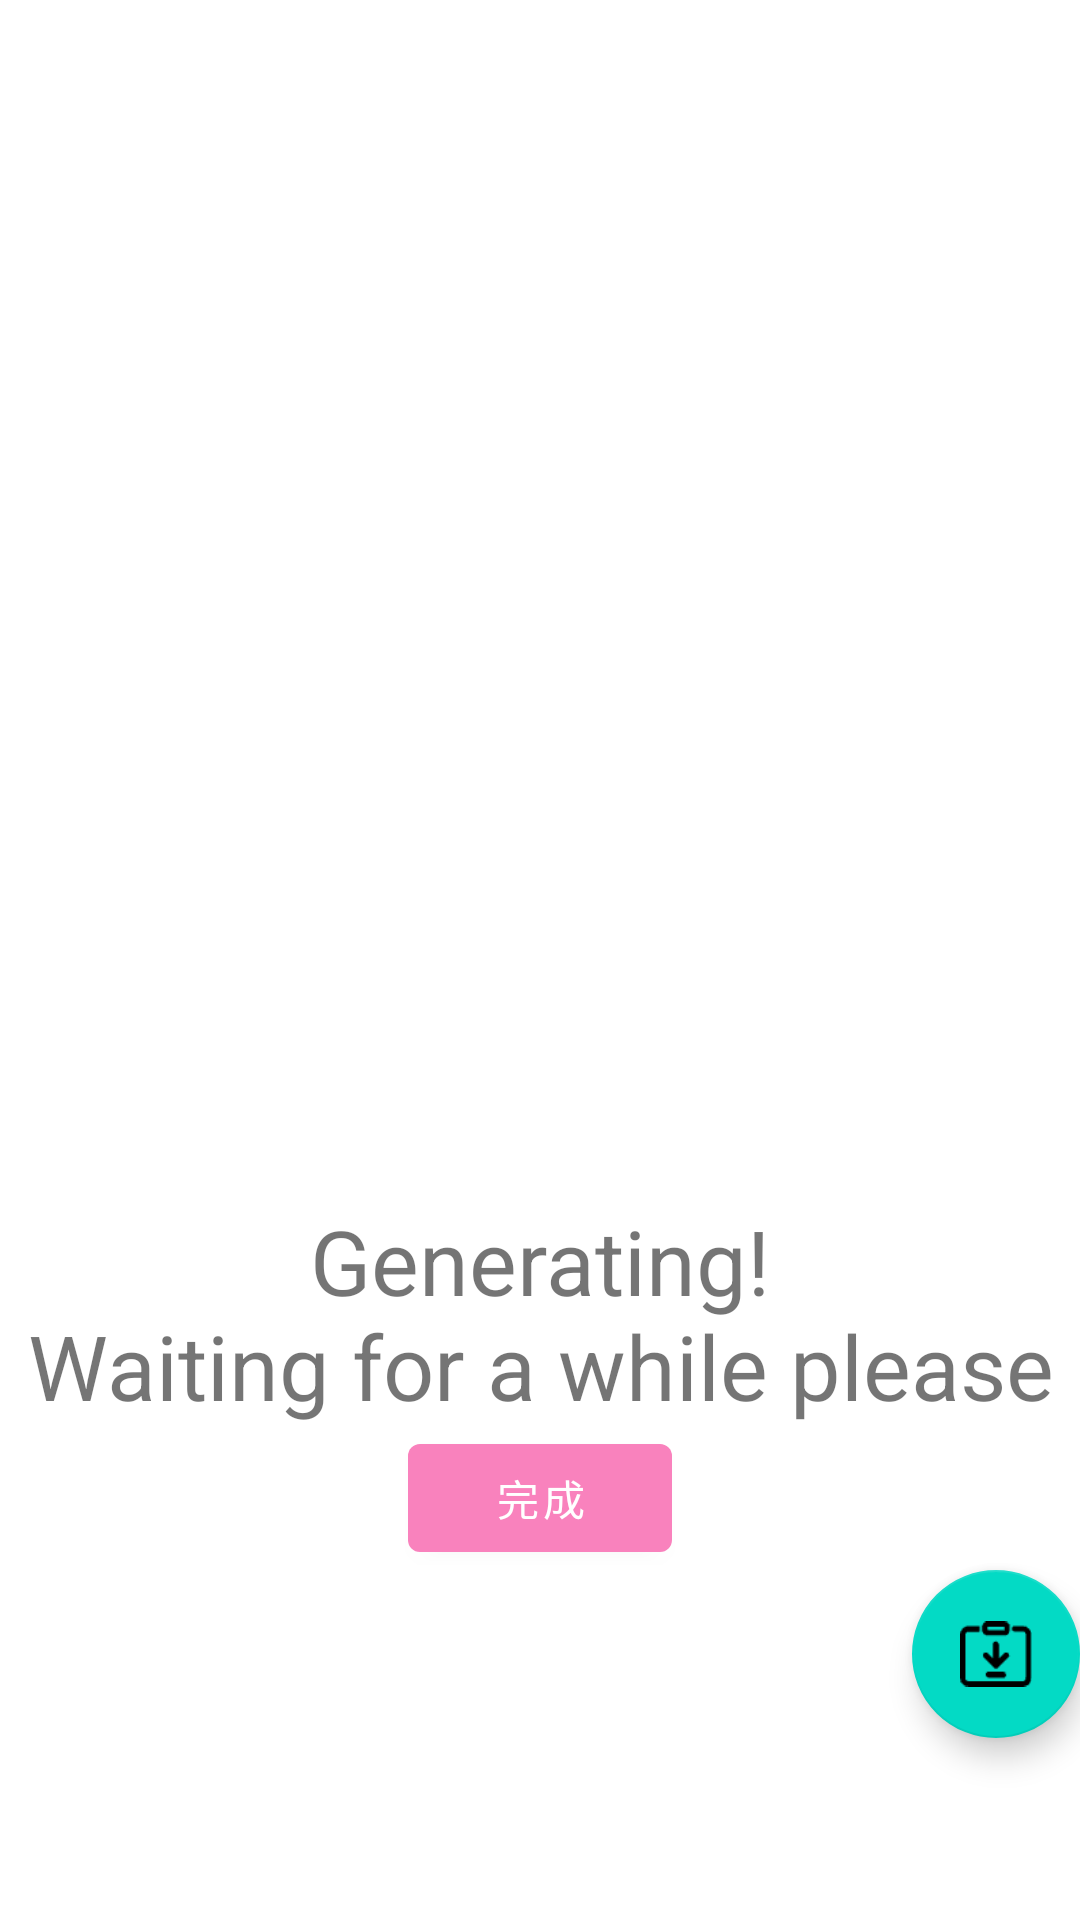

Named icons in this screenshot (1080px x 1920px) and their bounding boxes, box(x1, y1, x2, y2):
download: box(912, 1570, 1080, 1738)
